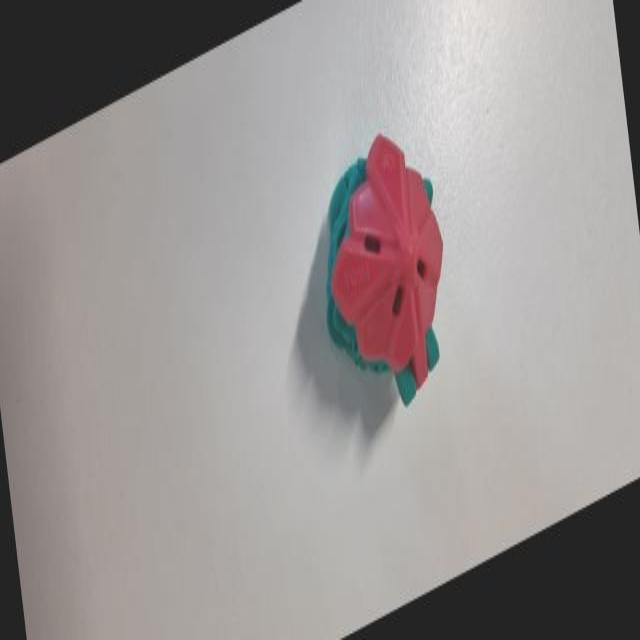House: (293, 59, 470, 456)
